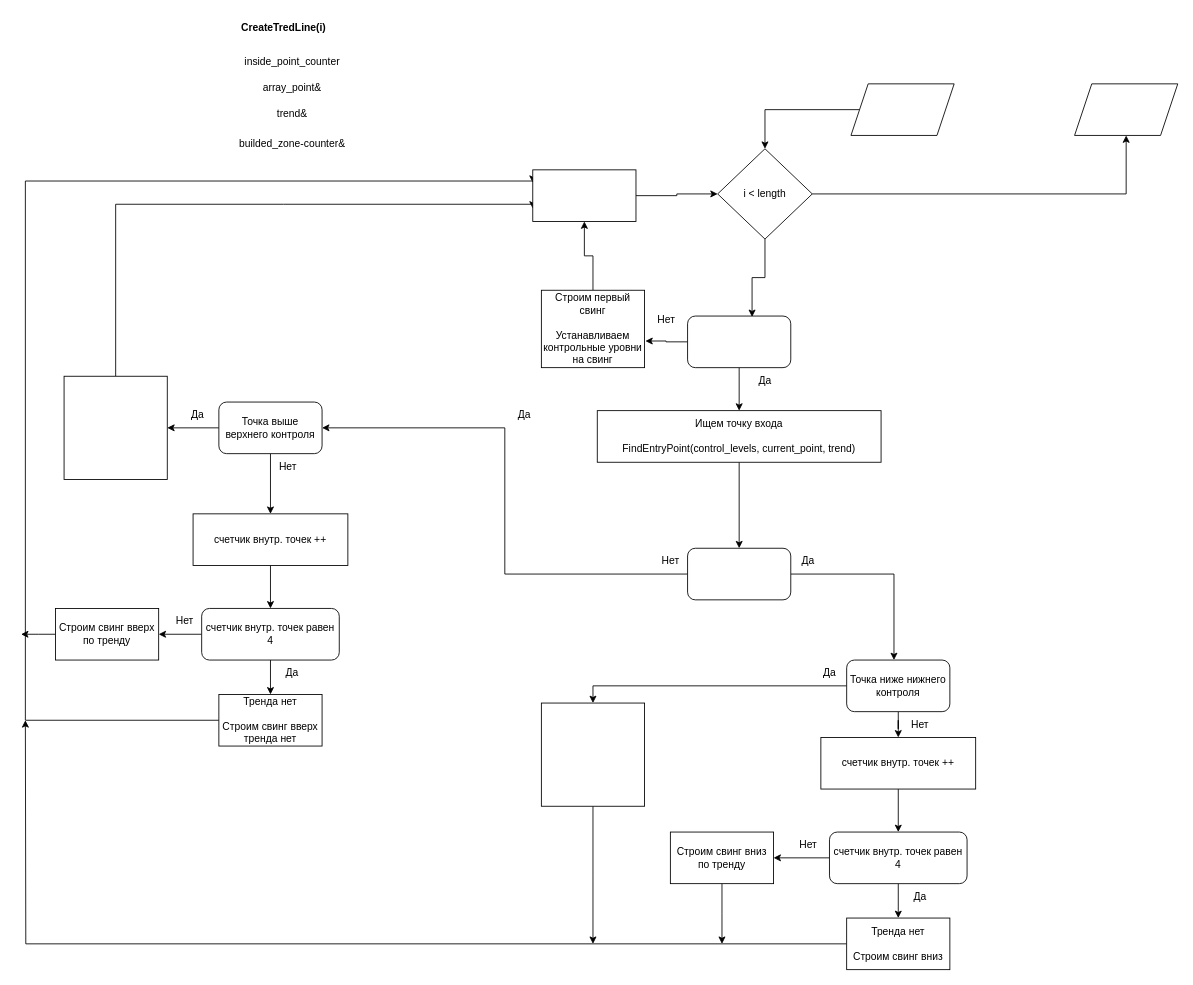
Image size: 1193x985. Some labels were removed from this diagram. The centre of each missing label's shape, as x and y in pixels:
"i++" goes at pixel 584 195.
"Выход" goes at pixel 1126 109.
"Первый свинг построен" goes at pixel 739 341.
"Свинг вверх" goes at pixel 739 573.
"Старт" goes at pixel 902 109.
"Тренд вверх Счетчик вт = 0 Строим свинг вверх Переносим контроль на свинг" goes at pixel 115 427.
"Тренд вниз Счетчик вт = 0 Строим свинг вниз Переносим контроль на свинг" goes at pixel 593 754.
